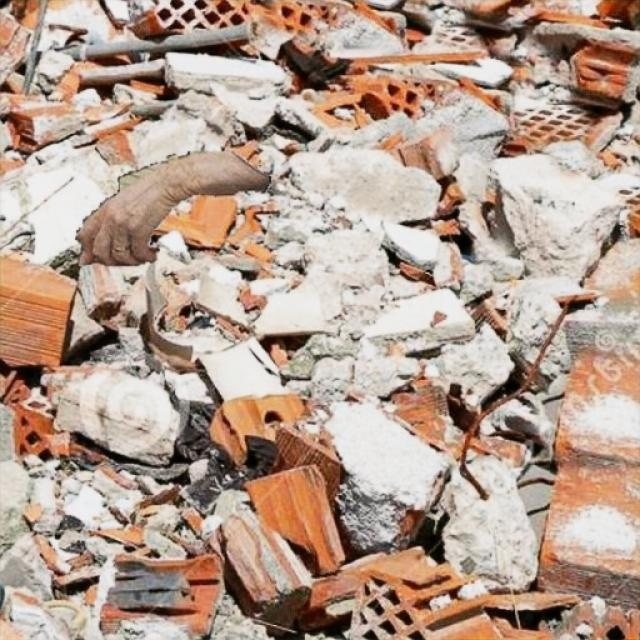Person in Rubble: (75, 151, 270, 265)
